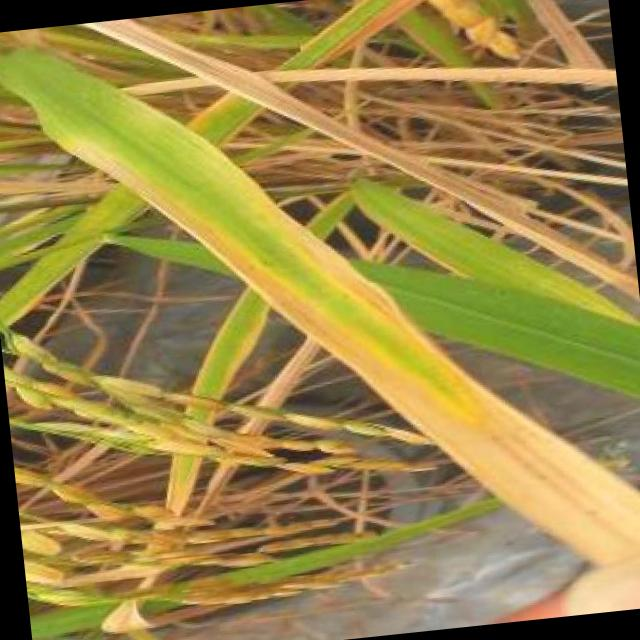Rice_Bacterial_Blight: (173, 130, 394, 390)
